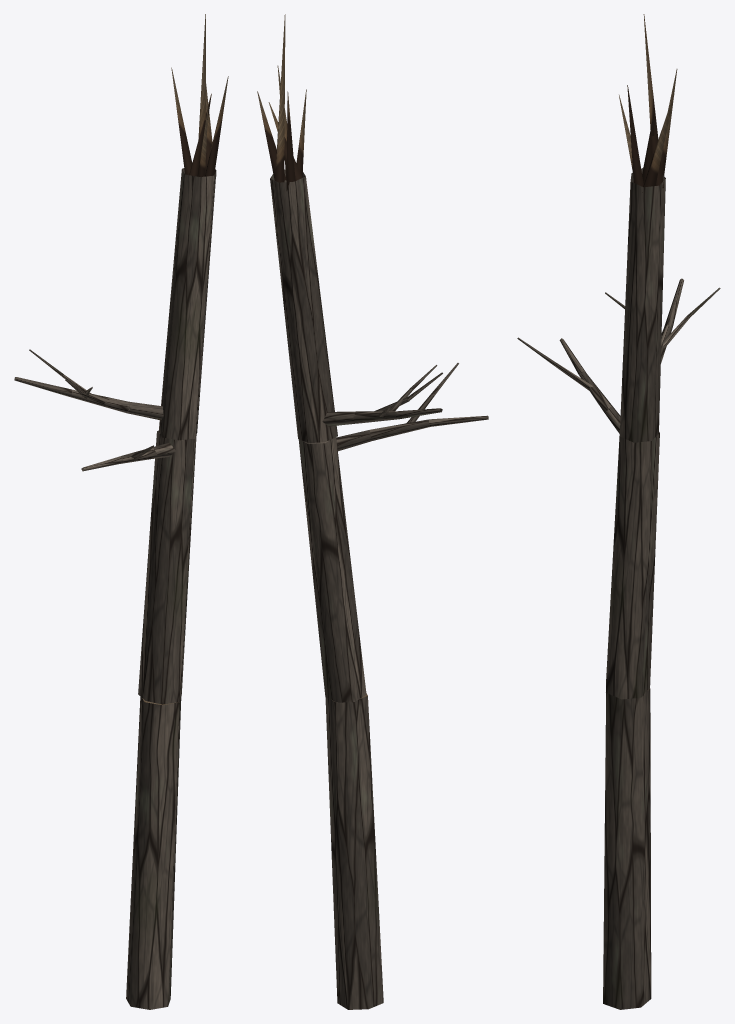
The model's file is S7U_Tree_Broken_A.fbx.
3 renders of one model, left to right at view 1: azimuth 30°, elevation 25°; view 2: azimuth 150°, elevation 25°; view 3: azimuth 270°, elevation 25°, orthographic. The views are drawn at different scales.
Parts seen in each view (by area): view 1: S7U_Tree_Broken_A; view 2: S7U_Tree_Broken_A; view 3: S7U_Tree_Broken_A.
Part boxes in pixels (x1=…): S7U_Tree_Broken_A: x1=14, y1=14, x2=228, y2=1009; S7U_Tree_Broken_A: x1=257, y1=14, x2=488, y2=1009; S7U_Tree_Broken_A: x1=517, y1=14, x2=720, y2=1009.
Bounding box in the file's own units: 1.29 × 6.31 × 1.14.
